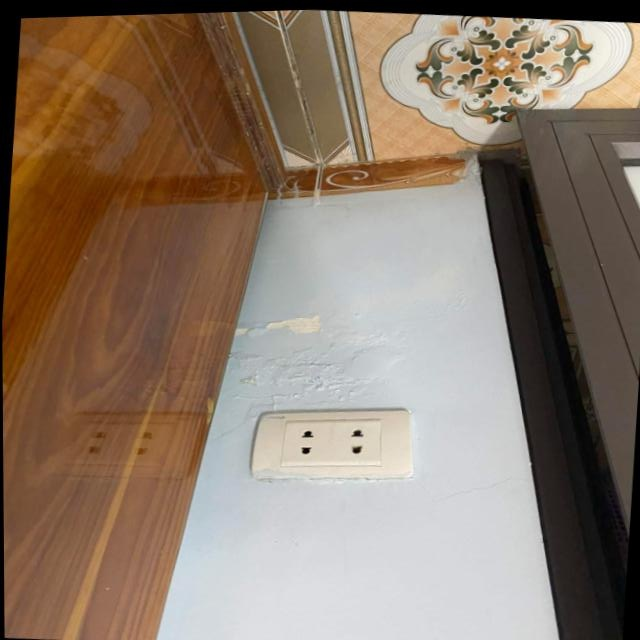outlet: (249, 397, 420, 491)
